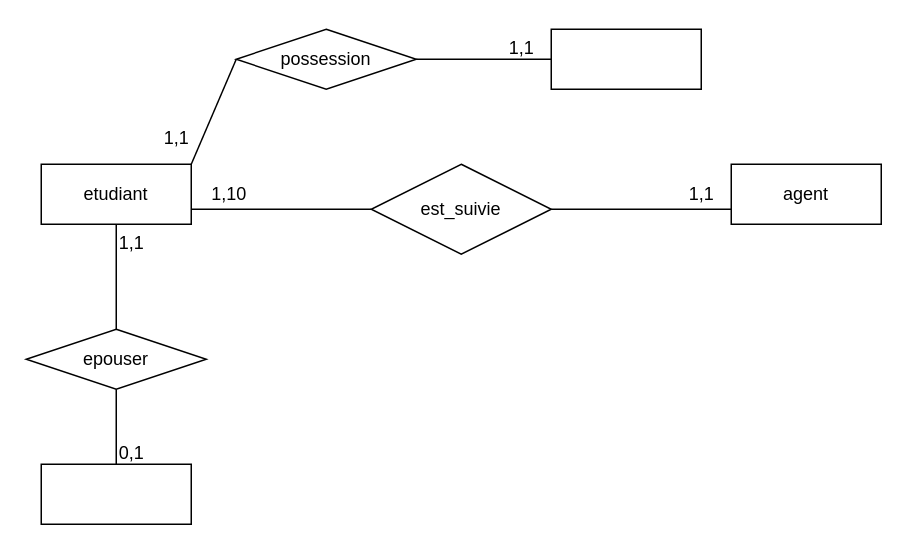
Image size: 908x551. Some labels were removed from this diagram. The box of each missing label's shape, as (x1, y1, x2, y2) in pixels:
conjoint: (40, 463, 191, 524)
testlangue: (550, 28, 701, 89)
